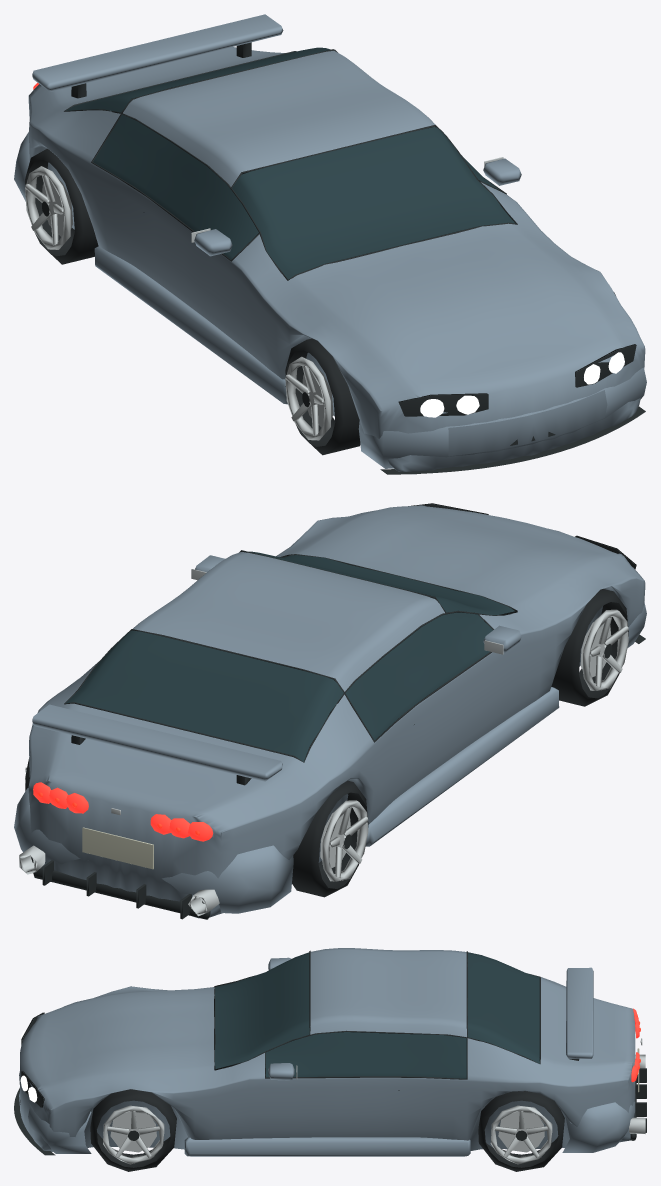
Rendered from lethari-oryth.glb.
3 renders of one model, top to bottom at view 1: azimuth 30°, elevation 25°; view 2: azimuth 150°, elevation 25°; view 3: azimuth 270°, elevation 25°, orthographic. The views are drawn at different scales.
Parts seen in each view (by area): view 1: scocca, cofano, cristallo_ant, tetto, porta_sx, cristallo_sx, spoiler, minigonna_sx, paraurti_ant, portellone, ruota_ant_sx_gomma, ruota_post_sx_gomma (+14 smaller); view 2: scocca, tetto, cristallo_post, cofano, portellone, porta_sx, cristallo_sx, paraurti_post, spoiler, minigonna_sx, ruota_ant_sx_gomma, ruota_post_sx_gomma (+12 smaller); view 3: scocca, cofano, porta_dx, tetto, cristallo_dx, cristallo_ant, cristallo_post, minigonna_dx, portellone, spoiler, paraurti_post, ruota_ant_dx_gomma (+13 smaller).
Boxes of the visible parts, x1=… form: scocca: x1=28, y1=84, x2=645, y2=474; cofano: x1=288, y1=223, x2=619, y2=387; cristallo_ant: x1=232, y1=127, x2=515, y2=279; tetto: x1=123, y1=51, x2=434, y2=186; porta_sx: x1=91, y1=163, x2=246, y2=350; cristallo_sx: x1=93, y1=114, x2=258, y2=259; spoiler: x1=32, y1=14, x2=283, y2=91; minigonna_sx: x1=94, y1=246, x2=287, y2=404; paraurti_ant: x1=358, y1=367, x2=646, y2=468; portellone: x1=47, y1=47, x2=284, y2=111; ruota_ant_sx_gomma: x1=285, y1=338, x2=360, y2=455; ruota_post_sx_gomma: x1=25, y1=149, x2=98, y2=264; scocca: x1=28, y1=505, x2=645, y2=918; tetto: x1=133, y1=552, x2=444, y2=691; cristallo_post: x1=65, y1=630, x2=343, y2=761; cofano: x1=292, y1=506, x2=619, y2=611; portellone: x1=43, y1=703, x2=303, y2=820; porta_sx: x1=368, y1=644, x2=517, y2=824; cristallo_sx: x1=345, y1=612, x2=492, y2=740; paraurti_post: x1=14, y1=788, x2=293, y2=913; spoiler: x1=32, y1=704, x2=282, y2=781; minigonna_sx: x1=365, y1=687, x2=559, y2=846; ruota_ant_sx_gomma: x1=551, y1=589, x2=628, y2=706; ruota_post_sx_gomma: x1=292, y1=780, x2=368, y2=897; scocca: x1=20, y1=977, x2=635, y2=1151; cofano: x1=42, y1=987, x2=214, y2=1089; porta_dx: x1=249, y1=1077, x2=467, y2=1140; tetto: x1=310, y1=948, x2=466, y2=1037; cristallo_dx: x1=265, y1=1032, x2=466, y2=1078; cristallo_ant: x1=215, y1=952, x2=309, y2=1068; cristallo_post: x1=467, y1=952, x2=539, y2=1063; minigonna_dx: x1=184, y1=1137, x2=470, y2=1156; portellone: x1=540, y1=977, x2=635, y2=1070; spoiler: x1=566, y1=967, x2=593, y2=1058; paraurti_post: x1=562, y1=1101, x2=635, y2=1152; ruota_ant_dx_gomma: x1=90, y1=1089, x2=176, y2=1171.
Size of the model in its own units: 2.1 by 1.19 by 4.93.
